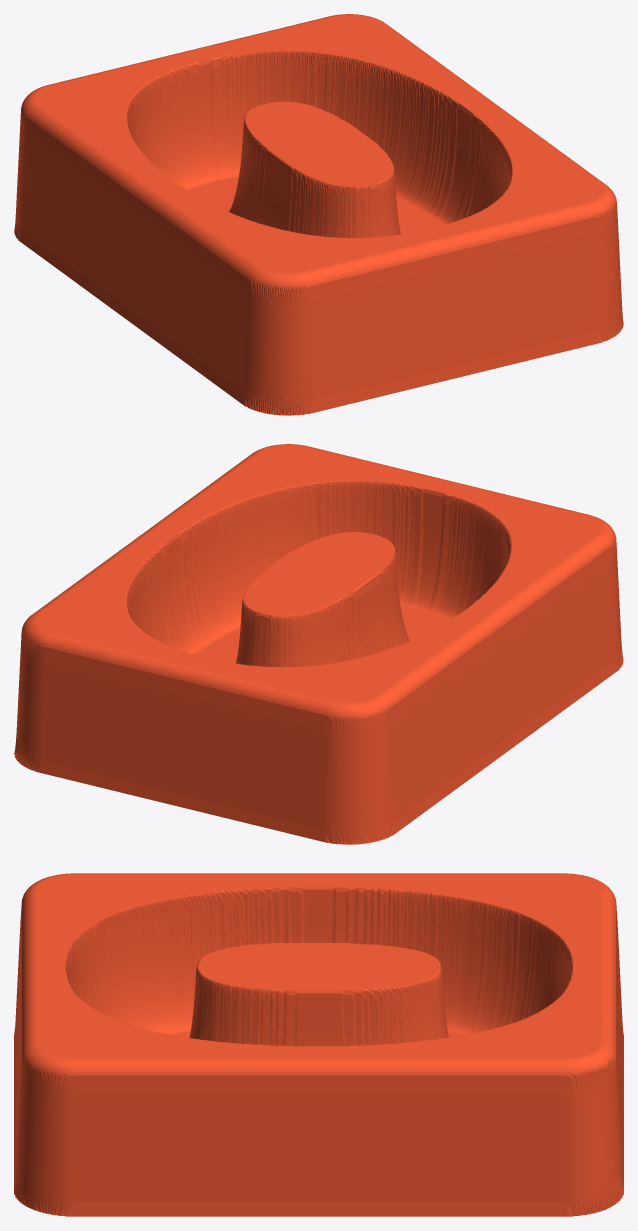
Rendered from mold.glb.
3 renders of one model, top to bottom at view 1: azimuth 30°, elevation 25°; view 2: azimuth 150°, elevation 25°; view 3: azimuth 270°, elevation 25°, orthographic. The views are drawn at different scales.
Visible parts, largest first — view 1: geometry_0; view 2: geometry_0; view 3: geometry_0.
Part boxes in pixels (x1=…): geometry_0: x1=14, y1=14, x2=623, y2=415; geometry_0: x1=14, y1=444, x2=623, y2=844; geometry_0: x1=14, y1=873, x2=623, y2=1216.
Bounding box in the file's own units: 0.0728 × 0.0248 × 0.0924.
